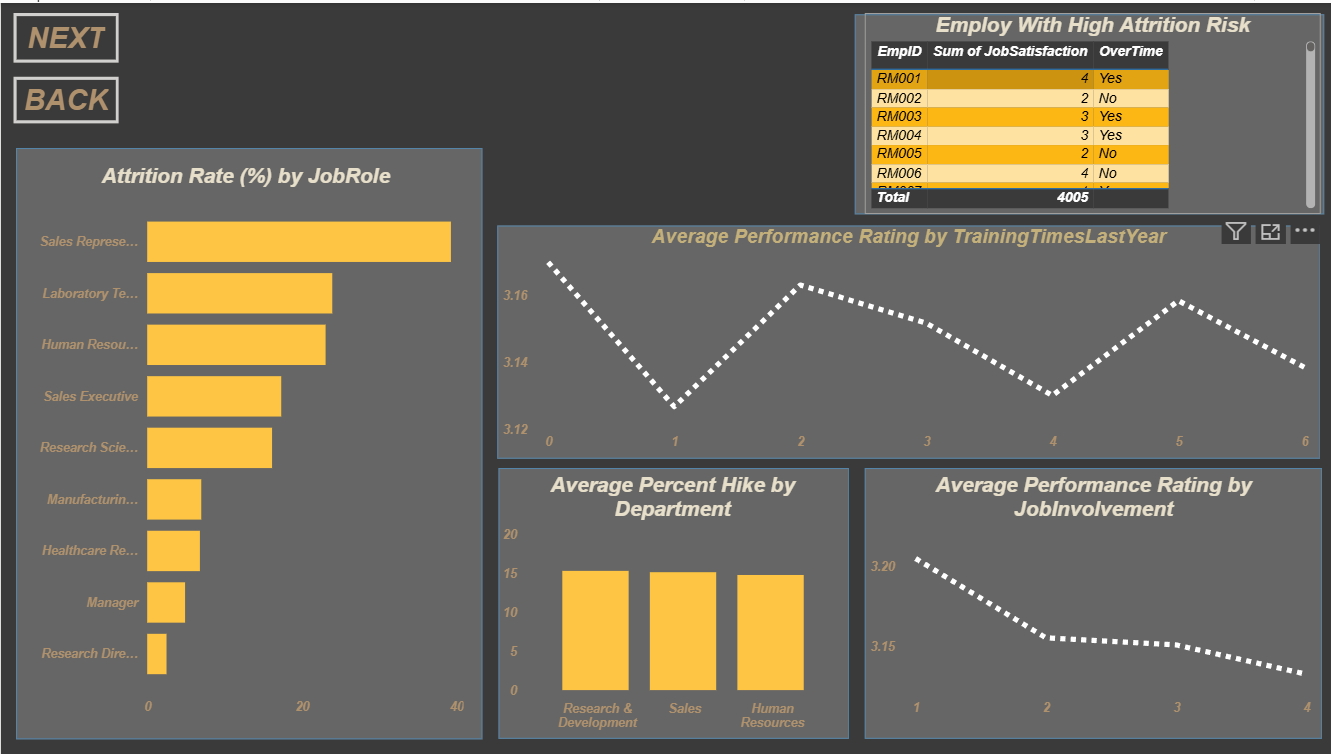

Layout of this report page (visuals, bound fields, positions):
{"tool":"powerbi","page":{"name":"Dashboard 2","canvas":[1280,720],"ordinal":1},"visuals":[{"type":"shape","box":[818.1,10.7,450.1,191.9],"z":0,"group":"g6"},{"type":"group","id":"g1","title":"Group 3","box":[14.9,138.5,447.3,567],"z":0},{"type":"shape","box":[14.9,138.5,447.3,567],"z":0,"group":"g1"},{"type":"shape","box":[475.5,213.7,789.2,223.6],"z":0,"group":"g5"},{"type":"group","id":"g2","title":"Group 3","box":[828.2,445.6,438.6,259.7],"z":0,"group":"g4"},{"type":"shape","box":[828.2,445.6,438.6,259.7],"z":0,"group":"g2"},{"type":"shape","box":[476.6,445.8,336.2,259.7],"z":0,"group":"g3"},{"type":"barChart","fields":{"Y":["hr_analysis.Attrition Rate (%)"],"Category":["hr_analysis.JobRole"]},"box":[20.2,154.4,428.5,536.7],"z":1000},{"type":"lineChart","fields":{"Y":["hr_analysis.Average Performance Rating"],"Category":["hr_analysis.JobInvolvement"]},"box":[828.1,450.1,438.6,240.9],"z":1000,"group":"g4"},{"type":"group","id":"g3","title":"Group 3","box":[476.6,445.8,336.2,259.7],"z":2000},{"type":"columnChart","fields":{"Category":["hr_analysis.Department"],"Y":["hr_analysis.Average Percent Hike"]},"box":[476.1,450.1,336.2,255.4],"z":3000},{"type":"group","id":"g4","title":"Group 1","box":[828.1,445.6,438.7,259.7],"z":4000},{"type":"group","id":"g5","title":"Group 3","box":[475.5,213.7,789.2,223.6],"z":5000},{"type":"lineChart","fields":{"Category":["hr_analysis.TrainingTimesLastYear"],"Y":["hr_analysis.Average Performance Rating"]},"box":[476.1,213.5,789.2,223.6],"z":6000},{"type":"group","id":"g6","title":"Group 3","box":[818.1,10.7,450.1,191.9],"z":7000},{"type":"tableEx","title":"Employ With High Attrition Risk","fields":{"Values":["hr_analysis.EmpID","Sum(hr_analysis.JobSatisfaction)","hr_analysis.OverTime"]},"box":[828.1,10.1,437.2,191.9],"z":8000},{"type":"actionButton","title":"dfdfff","box":[11.7,9.7,101.1,47.6],"z":9000},{"type":"actionButton","title":"dfdfff","box":[11.7,71,101.1,44.7],"z":10000}]}

Visuals, with their boxes in screenshot pixels (x1, y1, x2, y2), scaled from the page's 1280x720 canvas onto the 1331x754 screenshot:
shape: 851:11:1319:212
"Group 3" group: 15:145:481:739
shape: 15:145:481:739
shape: 494:224:1315:458
"Group 3" group: 861:467:1317:739
shape: 861:467:1317:739
shape: 496:467:845:739
barChart - hr_analysis.Attrition Rate (%) x hr_analysis.JobRole: 21:162:467:724
lineChart - hr_analysis.Average Performance Rating x hr_analysis.JobInvolvement: 861:471:1317:724
"Group 3" group: 496:467:845:739
columnChart - hr_analysis.Department x hr_analysis.Average Percent Hike: 495:471:845:739
"Group 1" group: 861:467:1317:739
"Group 3" group: 494:224:1315:458
lineChart - hr_analysis.TrainingTimesLastYear x hr_analysis.Average Performance Rating: 495:224:1316:458
"Group 3" group: 851:11:1319:212
"Employ With High Attrition Risk" tableEx: 861:11:1316:212
"dfdfff" actionButton: 12:10:117:60
"dfdfff" actionButton: 12:74:117:121
